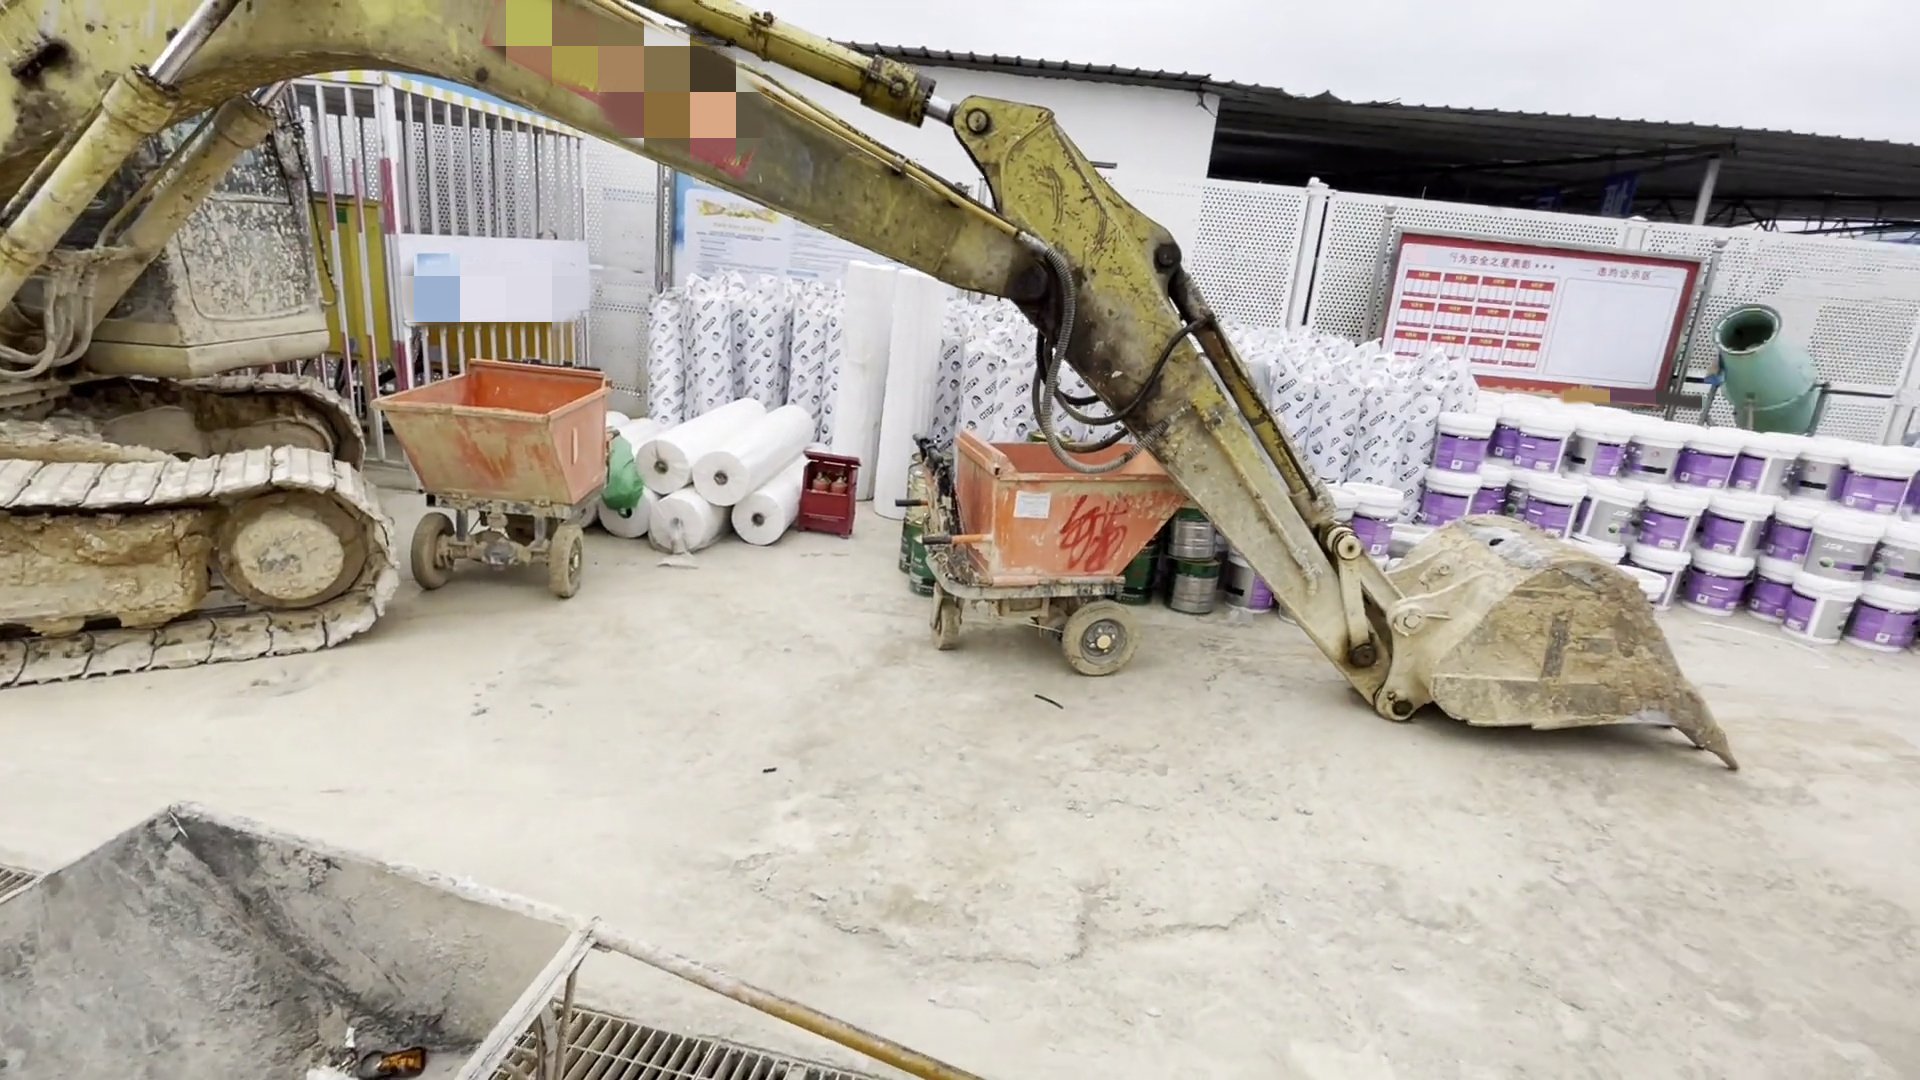hopper: (915, 422, 1195, 709), (375, 349, 618, 588)
